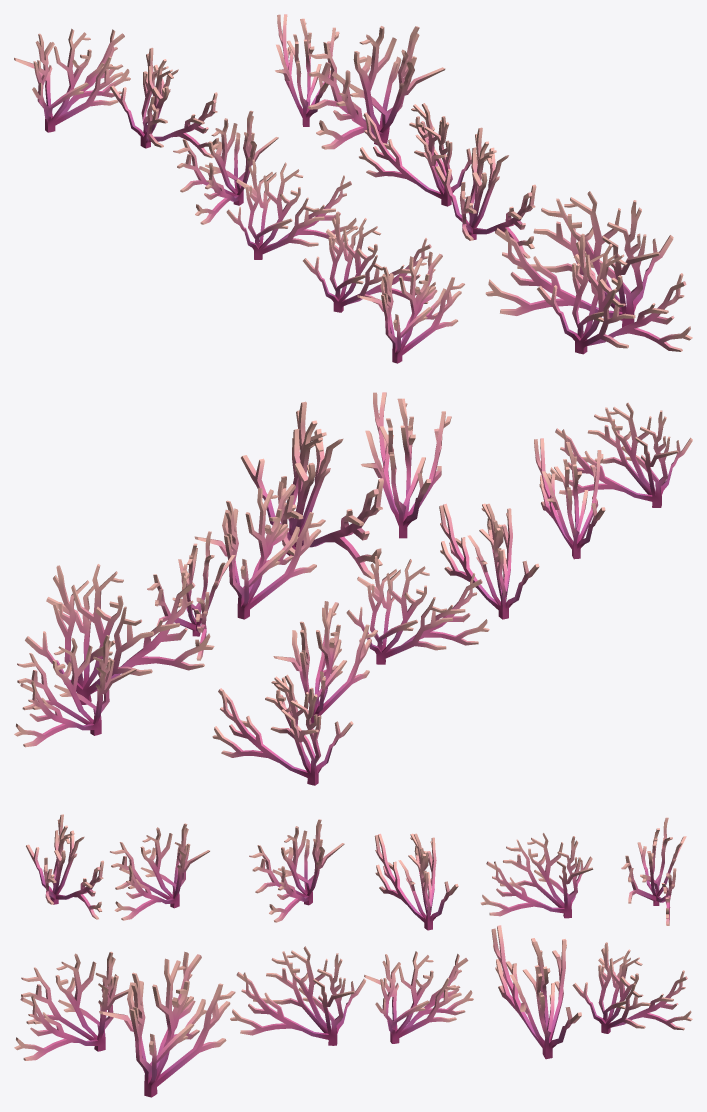
File: stageObject_2.fbx
3 renders of one model, top to bottom at view 1: azimuth 30°, elevation 25°; view 2: azimuth 150°, elevation 25°; view 3: azimuth 270°, elevation 25°, orthographic. The views are drawn at different scales.
Parts seen in each view (by area): view 1: sango1_2; view 2: sango1_2; view 3: sango1_2.
Boxes of the visible parts, left/top/right/bottom form: sango1_2: left=14, top=14, right=692, bottom=363; sango1_2: left=14, top=392, right=692, bottom=785; sango1_2: left=14, top=814, right=692, bottom=1097.
Bounding box in the file's own units: 171 × 74.25 × 299.
Materials: 1 (1 with a texture image).
